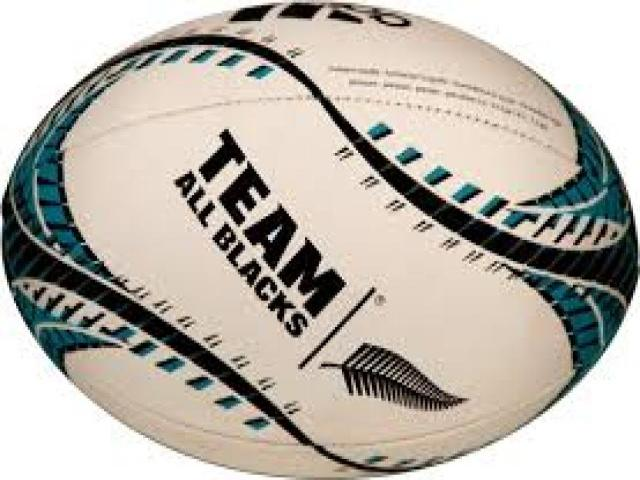round ball: (2, 0, 638, 480)
